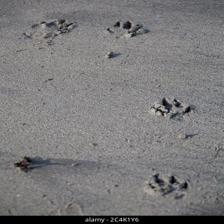dog: (147, 91, 194, 125), (145, 172, 190, 203)
